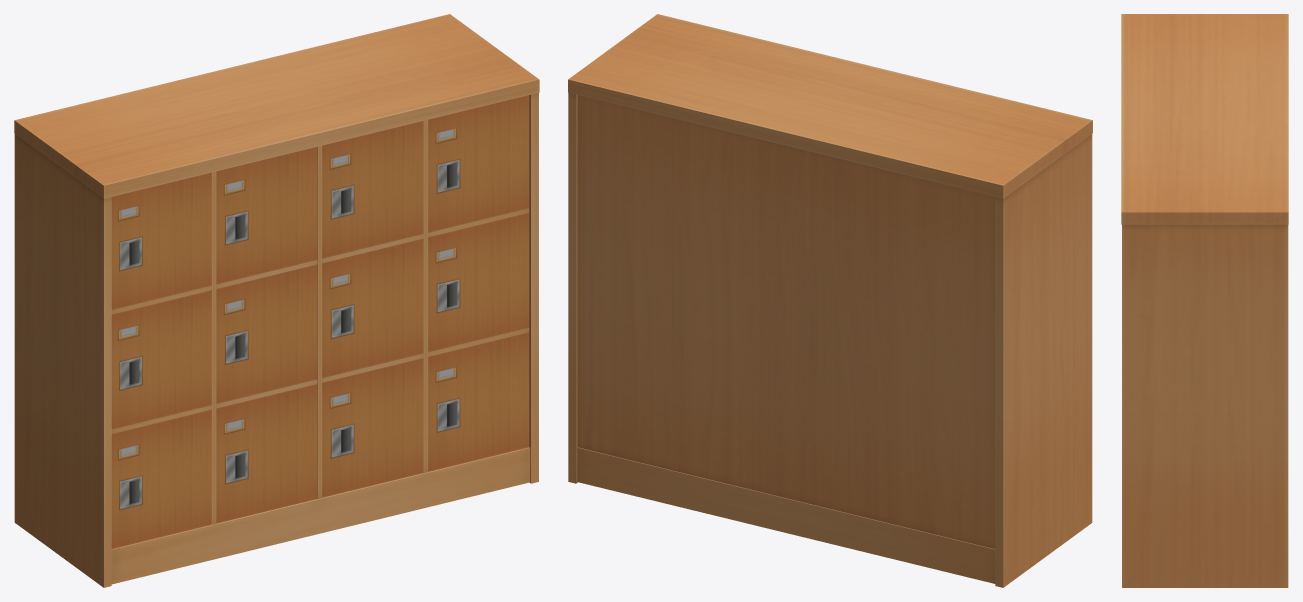
File: set_shoecupboard_b_07.fbx
3 renders of one model, left to right at view 1: azimuth 30°, elevation 25°; view 2: azimuth 150°, elevation 25°; view 3: azimuth 270°, elevation 25°, orthographic. The views are drawn at different scales.
Visible parts, largest first — view 1: shoecupboard_b_07, door_b_07_05, door_b_07_12, door_b_07_11, door_b_07_06, door_b_07_08, door_b_07_09, door_b_07_02, door_b_07_03, door_b_07_04, door_b_07_10, door_b_07_07 (+1 smaller); view 2: shoecupboard_b_07; view 3: shoecupboard_b_07.
Boxes of the visible parts, x1,y1,x2,y2 form: shoecupboard_b_07: (14, 14, 539, 587); door_b_07_05: (216, 264, 317, 403); door_b_07_12: (428, 332, 529, 471); door_b_07_11: (428, 213, 529, 352); door_b_07_06: (216, 384, 317, 523); door_b_07_08: (322, 238, 423, 378); door_b_07_09: (322, 358, 423, 497); door_b_07_02: (111, 290, 211, 429); door_b_07_03: (111, 409, 211, 548); door_b_07_04: (216, 147, 317, 284); door_b_07_10: (428, 95, 529, 232); door_b_07_07: (322, 121, 423, 258); shoecupboard_b_07: (568, 14, 1092, 587); shoecupboard_b_07: (1121, 14, 1288, 587).
Size of the model in its own units: 105 by 92.62 by 37.38.
